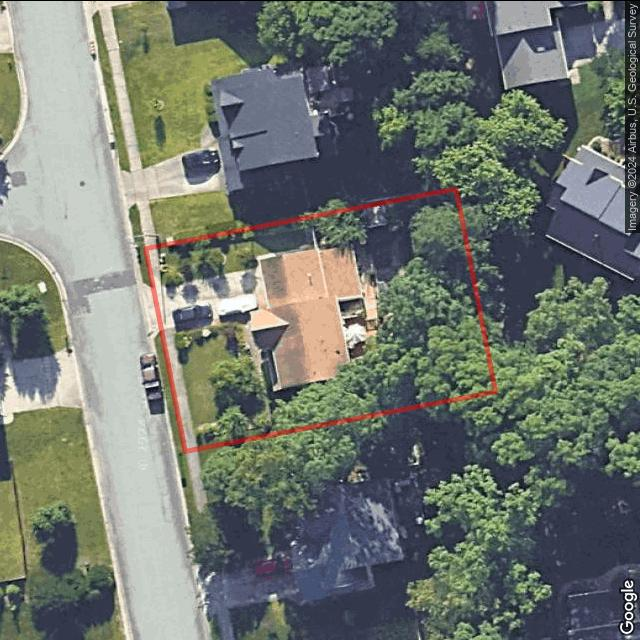Driveway: (154, 264, 268, 337)
Extra-Driveway: (140, 279, 162, 338)
Extra-Lawn: (155, 329, 187, 453), (135, 246, 153, 286)
House: (250, 243, 362, 390)
Lawn: (144, 189, 496, 451)
Other: (340, 276, 384, 360), (361, 200, 390, 230)
Sidewalk: (163, 326, 197, 451), (242, 321, 279, 392), (255, 241, 318, 265), (145, 245, 163, 287)
